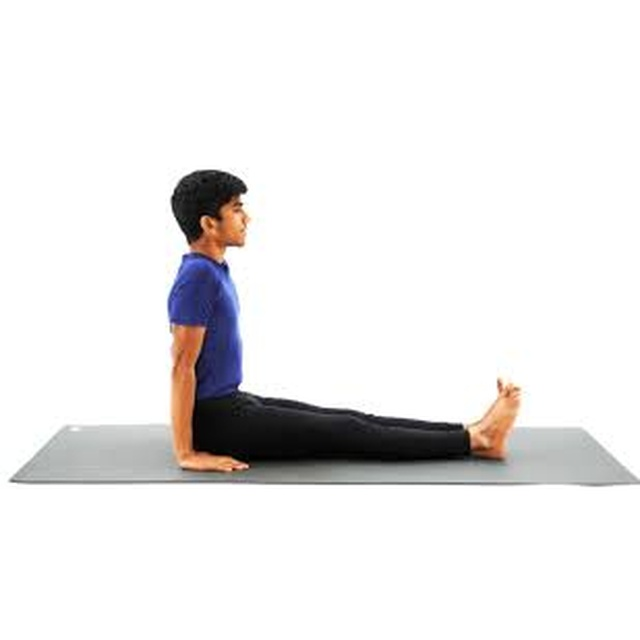Staff_Pose: (167, 171, 522, 471)
